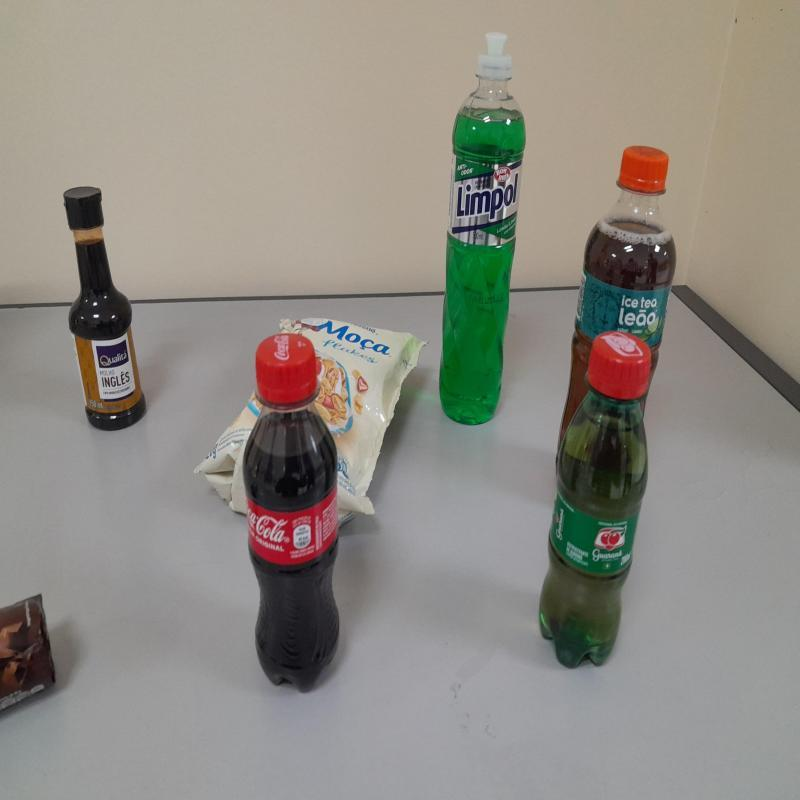Cleaner: (439, 34, 527, 428)
Coke: (243, 331, 343, 693)
Cookies: (0, 595, 57, 720)
CornFlakes: (300, 318, 428, 528), (194, 394, 262, 516)
EnglishSauce: (65, 182, 145, 430)
Guarana: (541, 332, 648, 672)
IceTea: (560, 146, 676, 428)
